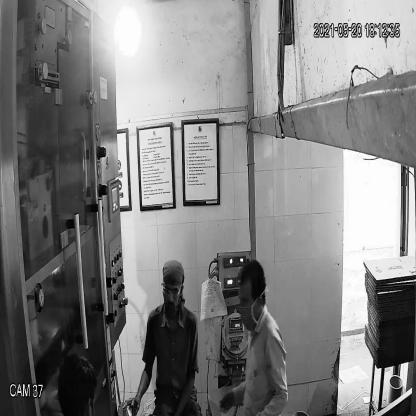goggles: (158, 280, 186, 302)
no_goggles: (237, 293, 258, 311)
